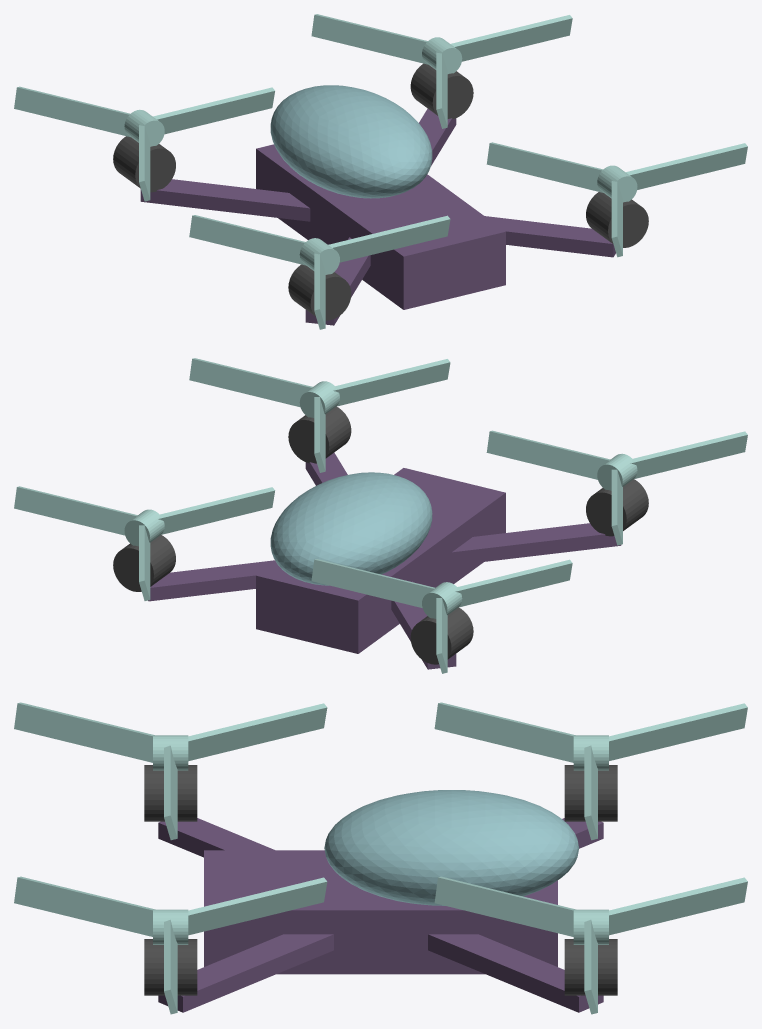
File: Open Racer.glb
The picture shows the model from 3 angles, top to bottom: view 1: azimuth 30°, elevation 25°; view 2: azimuth 150°, elevation 25°; view 3: azimuth 270°, elevation 25°; orthographic projection. The views are drawn at different scales.
Visible parts, largest first — view 1: frame_body, canopy, prop_3, prop_2, prop_1, prop_0, arm_3, arm_0, motor_2, motor_1, motor_0, motor_3 (+2 smaller); view 2: frame_body, canopy, prop_1, prop_0, prop_3, prop_2, arm_2, arm_1, motor_3, motor_0, motor_1, motor_2 (+2 smaller); view 3: frame_body, canopy, prop_0, prop_2, prop_1, prop_3, arm_1, arm_0, arm_2, motor_2, motor_3, motor_0 (+2 smaller).
Boxes of the visible parts, <box> form: frame_body: <box>256,144,505,309</box>; canopy: <box>270,85,432,198</box>; prop_3: <box>14,86,274,201</box>; prop_2: <box>189,215,450,329</box>; prop_1: <box>311,14,572,128</box>; prop_0: <box>486,142,747,257</box>; arm_3: <box>140,179,310,221</box>; arm_0: <box>485,216,615,257</box>; motor_2: <box>288,264,351,320</box>; motor_1: <box>410,63,473,119</box>; motor_0: <box>586,192,648,247</box>; motor_3: <box>113,136,175,192</box>; frame_body: <box>256,468,505,653</box>; canopy: <box>270,472,432,585</box>; prop_1: <box>14,486,275,600</box>; prop_0: <box>189,358,450,472</box>; prop_3: <box>311,559,572,673</box>; prop_2: <box>486,430,747,545</box>; arm_2: <box>451,523,621,565</box>; arm_1: <box>148,560,275,601</box>; motor_3: <box>410,607,473,664</box>; motor_0: <box>288,406,351,463</box>; motor_1: <box>113,535,175,591</box>; motor_2: <box>586,479,648,536</box>; frame_body: <box>204,850,557,974</box>; canopy: <box>324,790,579,905</box>; prop_0: <box>14,876,327,1014</box>; prop_2: <box>14,702,327,840</box>; prop_1: <box>434,876,747,1014</box>; prop_3: <box>434,702,747,840</box>; arm_1: <box>428,934,603,1012</box>; arm_0: <box>158,934,333,1012</box>; arm_2: <box>158,818,274,857</box>; motor_2: <box>144,765,197,821</box>; motor_3: <box>564,765,617,821</box>; motor_0: <box>144,939,197,995</box>.
Size of the model in its own units: 0.1931 by 0.0444 by 0.2073.
